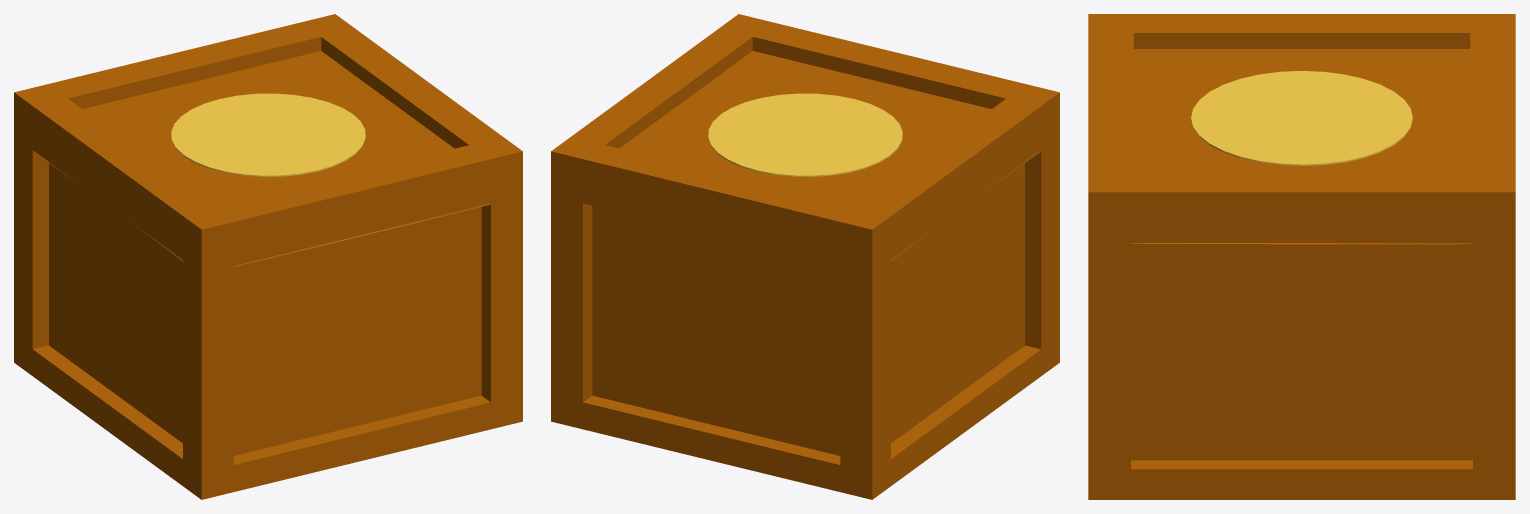
Rendered from foodBox.fbx.
3 views of the same model, side by side, from view 1: azimuth 30°, elevation 25°; view 2: azimuth 150°, elevation 25°; view 3: azimuth 270°, elevation 25° (orthographic). The views are drawn at different scales.
Parts seen in each view (by area): view 1: FoodBox, FoodBox.002, FoodBox.001; view 2: FoodBox, FoodBox.002, FoodBox.001; view 3: FoodBox, FoodBox.002, FoodBox.001.
Boxes of the visible parts, box(x1,y1,x2,y2) form: FoodBox: box(14, 110, 522, 499); FoodBox.002: box(14, 14, 522, 246); FoodBox.001: box(171, 93, 365, 176); FoodBox: box(551, 110, 1059, 499); FoodBox.002: box(551, 14, 1059, 246); FoodBox.001: box(708, 93, 902, 176); FoodBox: box(1088, 212, 1515, 499); FoodBox.002: box(1088, 14, 1515, 211); FoodBox.001: box(1191, 71, 1412, 165).
Size of the model in its own units: 567 by 456 by 574.
